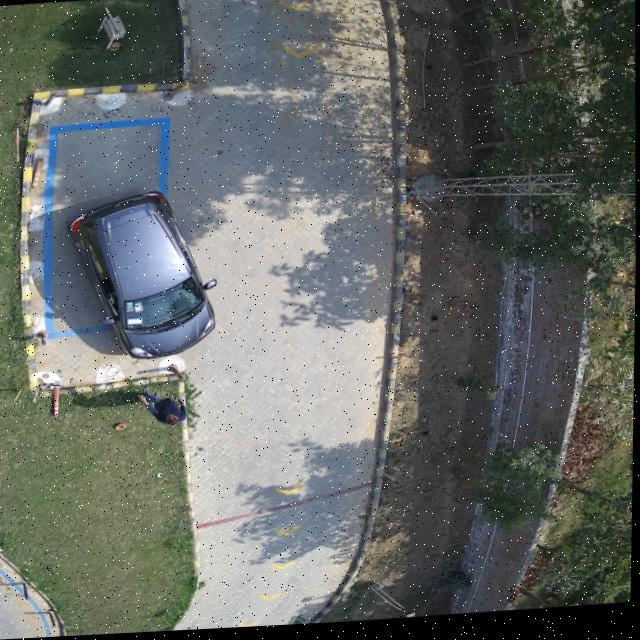car: (69, 192, 215, 361)
